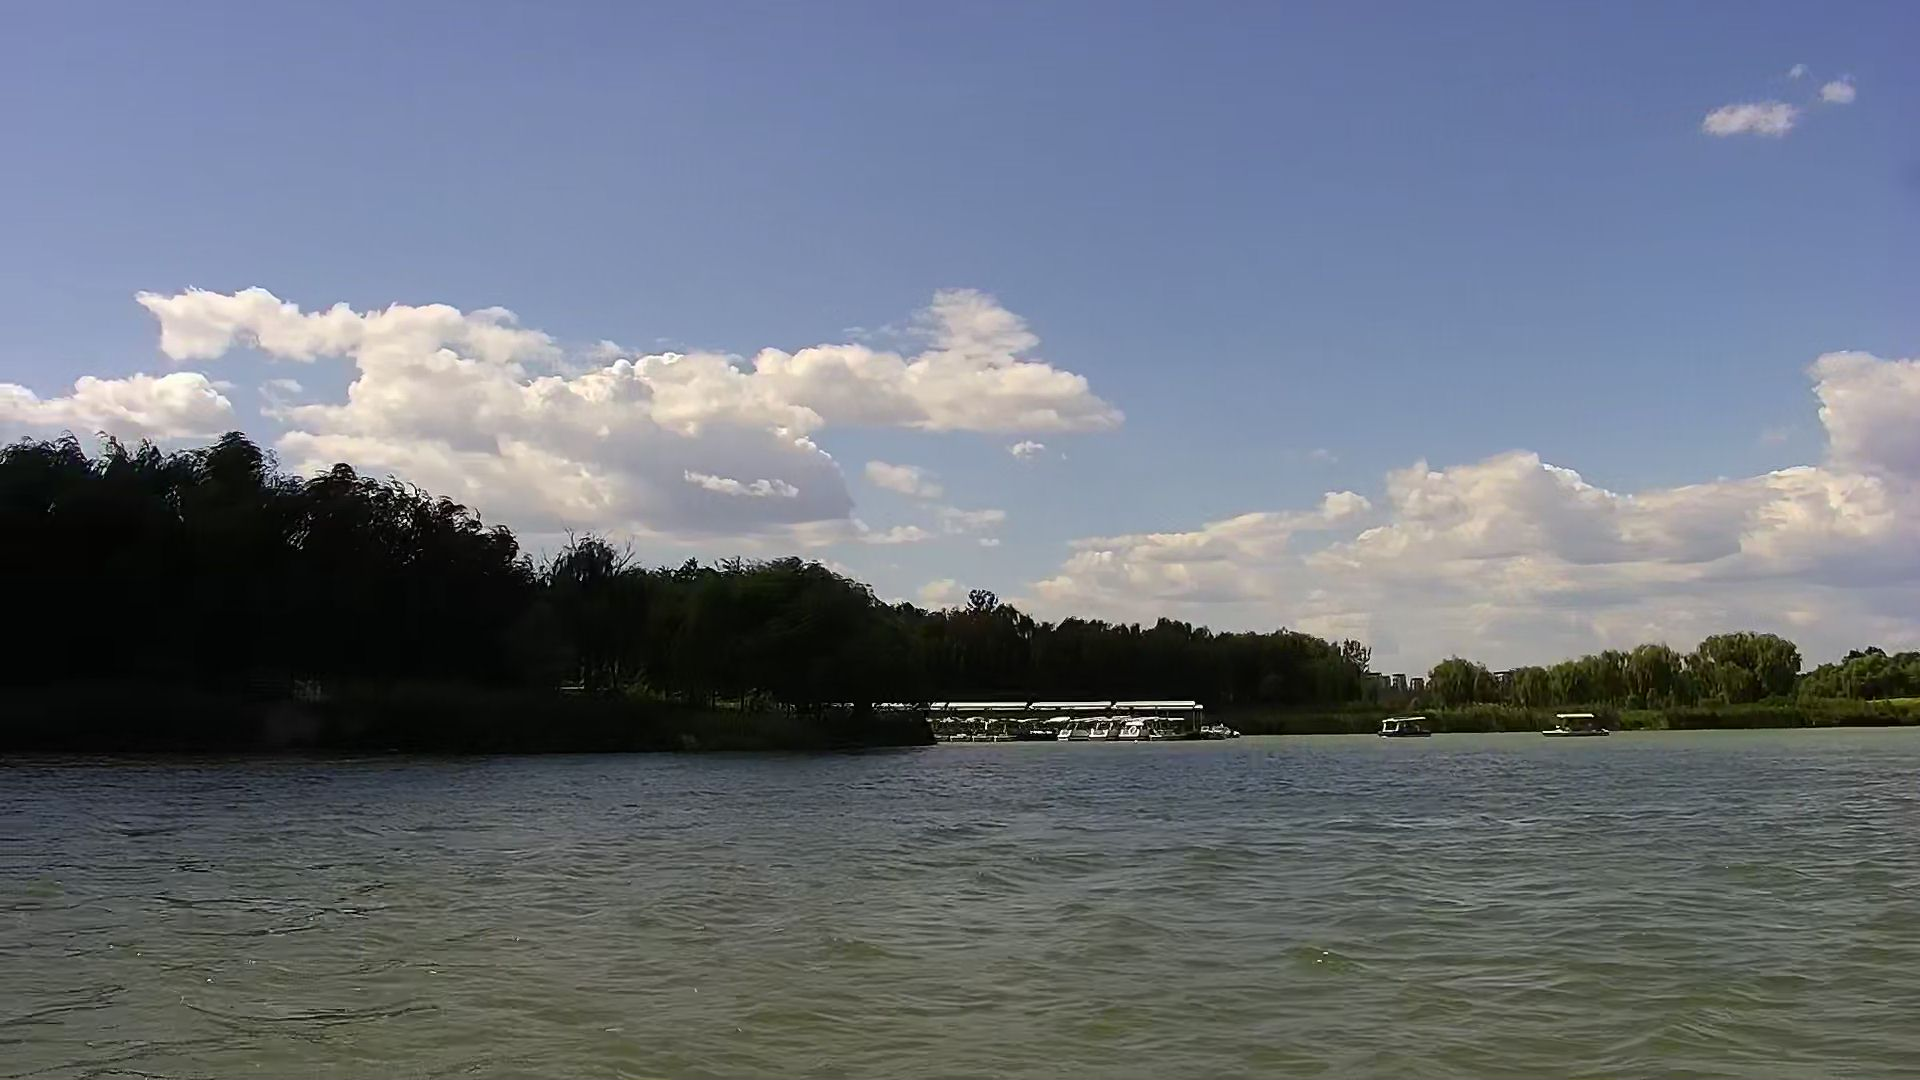boat: (1545, 707, 1614, 746), (1377, 705, 1443, 741), (1058, 716, 1105, 764), (1125, 712, 1189, 742), (961, 709, 1005, 746), (1091, 712, 1127, 750), (996, 712, 1027, 746), (1027, 713, 1059, 746)
